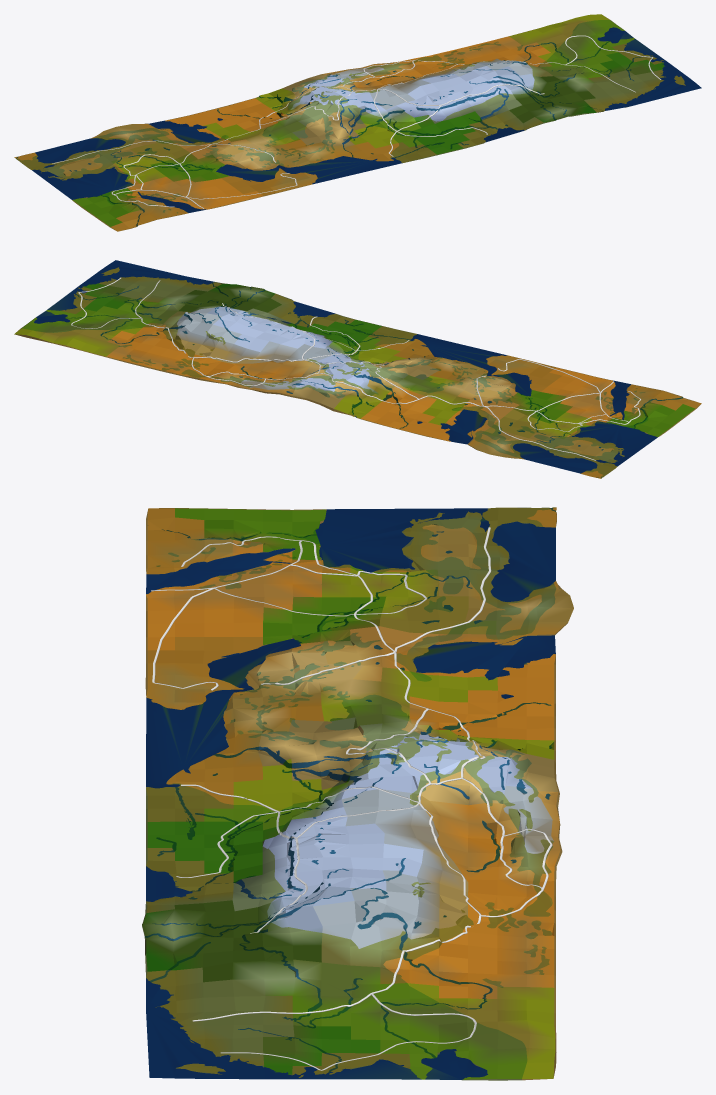
File: World.fbx
3 renders of one model, top to bottom at view 1: azimuth 30°, elevation 25°; view 2: azimuth 150°, elevation 25°; view 3: azimuth 270°, elevation 25°, orthographic. The views are drawn at different scales.
Parts seen in each view (by area): view 1: Plane, R_9_EXPORT; view 2: Plane, R_9_EXPORT; view 3: Plane, R_9_EXPORT.
Part boxes in pixels (x1,y1,x2,y2): Plane: [14, 14, 701, 231]; R_9_EXPORT: [111, 61, 635, 207]; Plane: [14, 260, 701, 478]; R_9_EXPORT: [135, 280, 641, 424]; Plane: [142, 507, 573, 1080]; R_9_EXPORT: [181, 536, 485, 1021].
Bounding box in the file's own units: 43.02 × 1.5 × 13.7.
